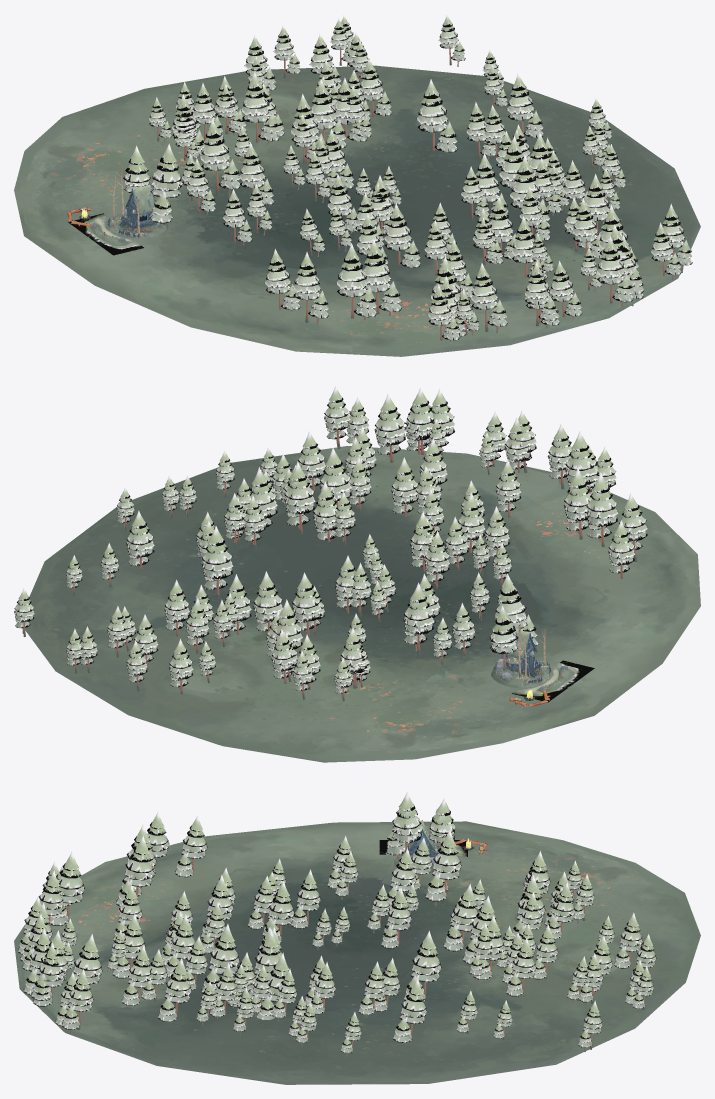
3 renders of one model, top to bottom at view 1: azimuth 30°, elevation 25°; view 2: azimuth 150°, elevation 25°; view 3: azimuth 270°, elevation 25°, orthographic. The views are drawn at different scales.
Parts seen in each view (by area): view 1: Ground_Ground_0.001, RedwoodAlpha, Trees1.082, Trees1.165, Trees1.180, Trees1.177, Trees1.007, Trees1.017, Trees1.197, Trees1.042, Trees1.147, Trees1.122 (+51 smaller); view 2: Ground_Ground_0.001, RedwoodAlpha, Trees1.082, Trees1.165, Trees1.076, Trees1.180, Trees1.113, Trees1.177, Trees1.024, Trees1.052, Trees1.120, GroundPlane (+40 smaller); view 3: Ground_Ground_0.001, RedwoodAlpha, Trees1.180, Trees1.177, Trees1.198, Trees1.018, Trees1.165, Trees1.120, Trees1.122, Trees1.137, Trees1.034, Trees1.199 (+55 smaller).
Boxes of the visible parts, x1,y1,x2,y2 form: Ground_Ground_0.001: [14, 65, 700, 356]; RedwoodAlpha: [123, 143, 183, 223]; Trees1.082: [336, 243, 377, 319]; Trees1.165: [416, 79, 457, 152]; Trees1.180: [199, 119, 240, 196]; Trees1.177: [362, 239, 401, 315]; Trees1.007: [241, 72, 280, 143]; Trees1.017: [596, 236, 633, 306]; Trees1.197: [292, 252, 328, 323]; Trees1.042: [470, 263, 507, 332]; Trees1.147: [383, 203, 420, 267]; Trees1.122: [506, 73, 544, 137]; Ground_Ground_0.001: [25, 446, 700, 762]; RedwoodAlpha: [490, 575, 538, 654]; Trees1.082: [586, 472, 618, 547]; Trees1.165: [201, 526, 233, 595]; Trees1.076: [284, 461, 315, 534]; Trees1.180: [403, 582, 434, 656]; Trees1.113: [374, 393, 405, 462]; Trees1.177: [563, 468, 591, 539]; Trees1.024: [253, 571, 282, 632]; Trees1.052: [406, 387, 433, 454]; Trees1.120: [292, 572, 321, 637]; GroundPlane: [512, 660, 594, 702]; Ground_Ground_0.001: [14, 821, 700, 1084]; RedwoodAlpha: [387, 791, 455, 855]; Trees1.180: [425, 829, 461, 906]; Trees1.177: [116, 835, 154, 906]; Trees1.198: [50, 851, 84, 925]; Trees1.018: [201, 924, 239, 995]; Trees1.165: [404, 930, 441, 1001]; Trees1.120: [443, 884, 477, 951]; Trees1.122: [393, 978, 426, 1042]; Trees1.137: [158, 958, 191, 1021]; Trees1.034: [62, 969, 93, 1034]; Trees1.199: [175, 815, 207, 877].
Bounding box in the file's own units: 79.55 × 12.68 × 87.62.
24 materials, 15 textured.
